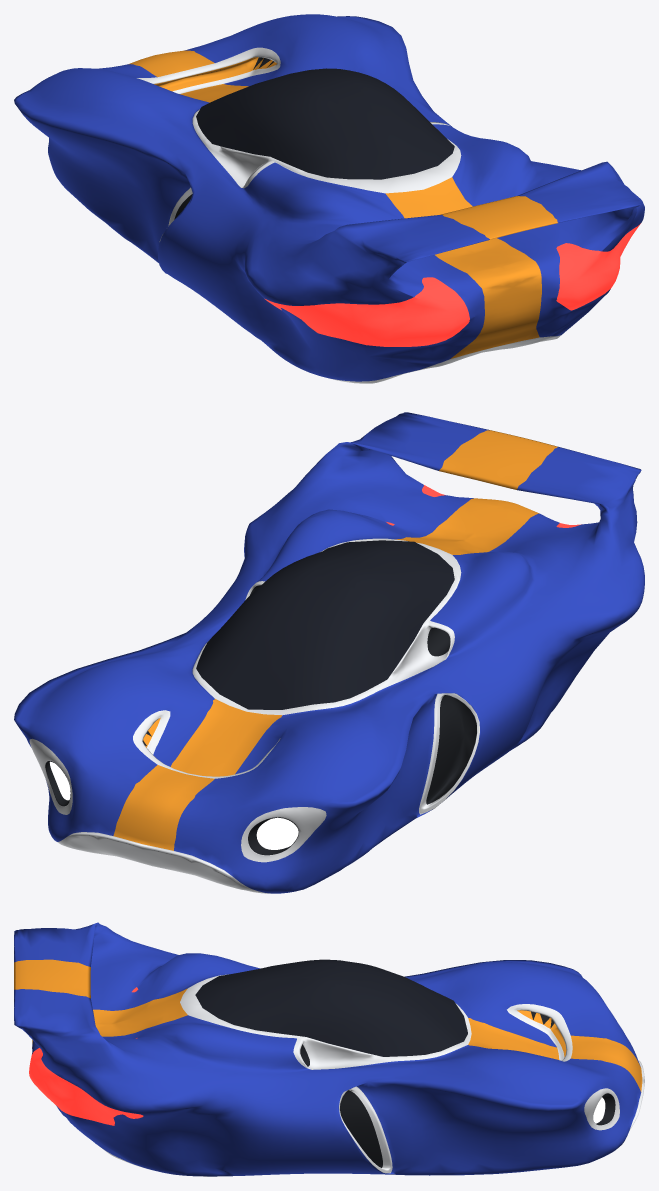
Rendered from w5-extreme.glb.
3 views of the same model, one above another, from view 1: azimuth 30°, elevation 25°; view 2: azimuth 150°, elevation 25°; view 3: azimuth 270°, elevation 25° (orthographic). The views are drawn at different scales.
Parts seen in each view (by area): view 1: Body.001, Canopy; view 2: Body.001, Canopy; view 3: Body.001, Canopy.
Boxes of the visible parts, x1,y1,x2,y2 form: Body.001: [14, 14, 644, 383]; Canopy: [196, 68, 454, 179]; Body.001: [14, 412, 644, 893]; Canopy: [196, 540, 454, 709]; Body.001: [14, 922, 644, 1176]; Canopy: [195, 959, 467, 1056].
Size of the model in its own units: 2.25 by 1.12 by 4.01.
